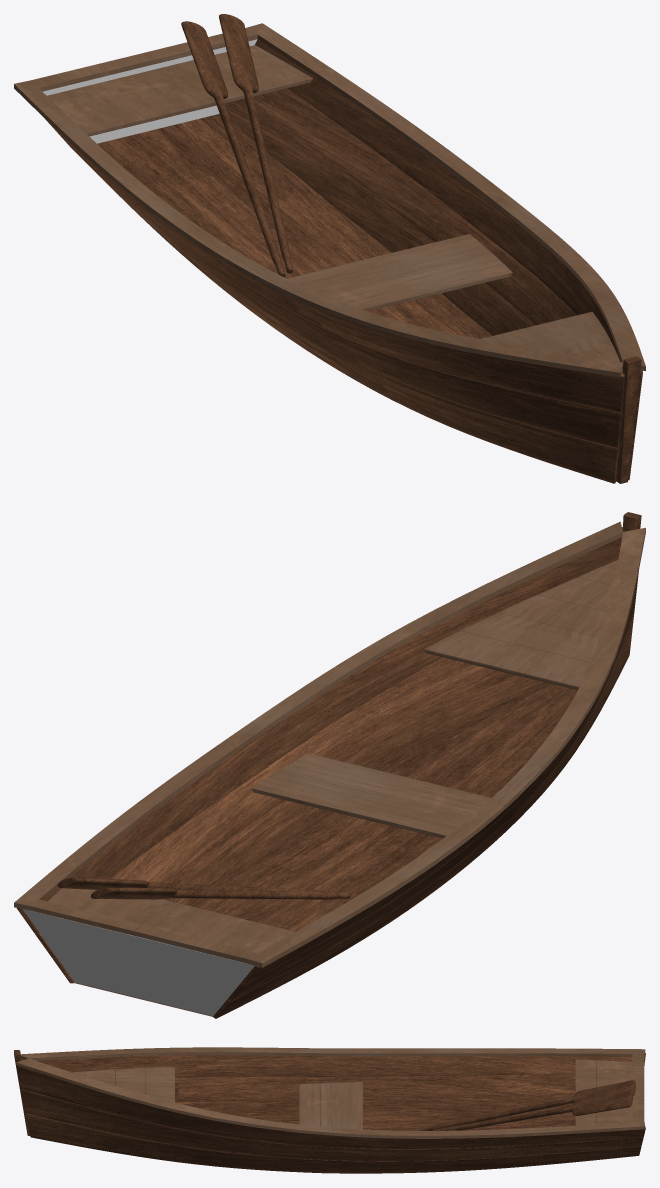
The model's file is Boat.obj.
3 views of the same model, one above another, from view 1: azimuth 30°, elevation 25°; view 2: azimuth 150°, elevation 25°; view 3: azimuth 270°, elevation 25° (orthographic). The views are drawn at different scales.
Visible parts, largest first — view 1: body_1_Cube.004, board_Cube.013, bottom_mesh, bench_2_Plane.002, bench_1_Plane.005, paddle_2_Cube.005, bench_3_Plane.003, paddle_1_Cube, body_2_Cube.002, the_bow_of_the_boat_Cube.003; view 2: body_1_Cube.004, board_Cube.013, bottom_mesh, bench_3_Plane.003, body_2_Cube.002, bench_1_Plane.005, bench_2_Plane.002, paddle_1_Cube, paddle_2_Cube.005; view 3: body_1_Cube.004, board_Cube.013, bench_1_Plane.005, bench_2_Plane.002, bench_3_Plane.003, paddle_2_Cube.005, bottom_mesh, paddle_1_Cube, the_bow_of_the_boat_Cube.003.
Boxes of the visible parts, bbox=[...] form: body_1_Cube.004: bbox=[45, 39, 642, 483]; board_Cube.013: bbox=[14, 23, 645, 377]; bottom_mesh: bbox=[97, 114, 492, 338]; bench_2_Plane.002: bbox=[47, 45, 312, 136]; bench_1_Plane.005: bbox=[287, 234, 512, 311]; paddle_2_Cube.005: bbox=[219, 14, 293, 273]; bench_3_Plane.003: bbox=[480, 311, 622, 373]; paddle_1_Cube: bbox=[181, 21, 285, 276]; body_2_Cube.002: bbox=[43, 39, 257, 143]; the_bow_of_the_boat_Cube.003: bbox=[616, 356, 641, 483]; body_1_Cube.004: bbox=[16, 527, 638, 1018]; board_Cube.013: bbox=[14, 521, 645, 967]; bottom_mesh: bbox=[75, 684, 577, 1016]; bench_3_Plane.003: bbox=[424, 560, 617, 689]; body_2_Cube.002: bbox=[23, 909, 254, 1016]; bench_1_Plane.005: bbox=[251, 753, 491, 838]; bench_2_Plane.002: bbox=[48, 888, 295, 952]; paddle_1_Cube: bbox=[90, 887, 350, 899]; paddle_2_Cube.005: bbox=[57, 877, 322, 890]; body_1_Cube.004: bbox=[16, 1053, 645, 1173]; board_Cube.013: bbox=[16, 1047, 645, 1138]; bench_1_Plane.005: bbox=[299, 1082, 362, 1129]; bench_2_Plane.002: bbox=[575, 1059, 632, 1125]; bench_3_Plane.003: bbox=[72, 1066, 174, 1102]; paddle_2_Cube.005: bbox=[431, 1091, 633, 1130]; bottom_mesh: bbox=[303, 1113, 575, 1173]; paddle_1_Cube: bbox=[419, 1080, 635, 1130]; the_bow_of_the_boat_Cube.003: bbox=[14, 1050, 29, 1135].
Bounding box in the file's own units: 1.5 × 0.7715 × 4.57.
